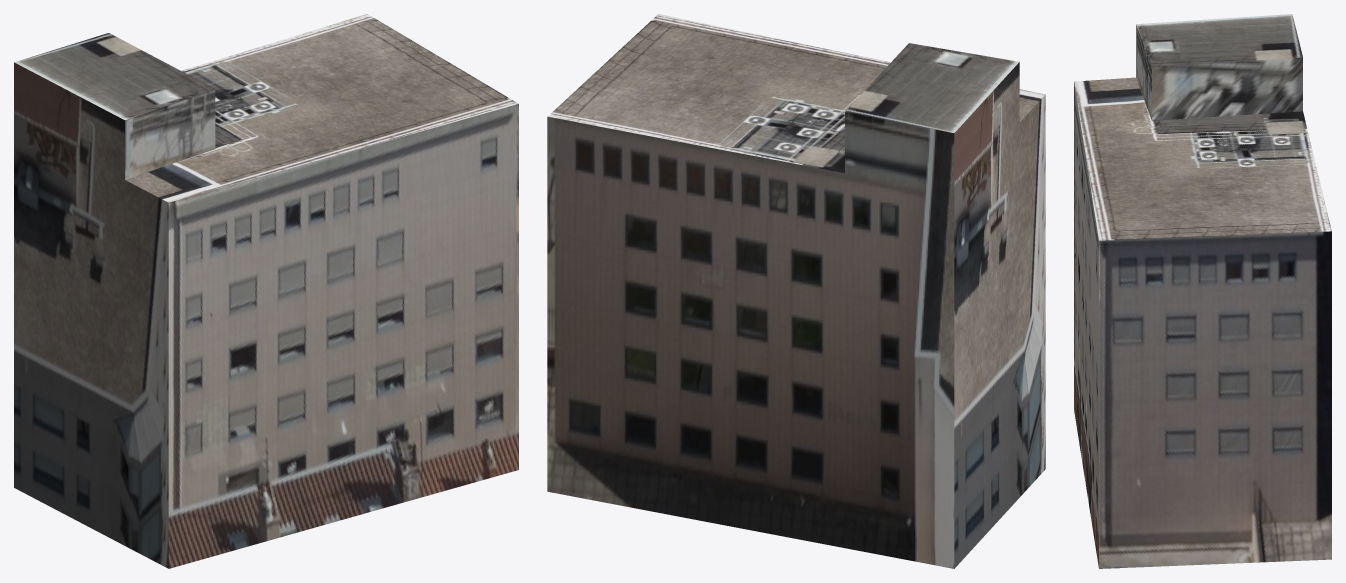
The picture shows the model from 3 angles, left to right: view 1: azimuth 30°, elevation 25°; view 2: azimuth 150°, elevation 25°; view 3: azimuth 270°, elevation 25°; orthographic projection. The views are drawn at different scales.
Visible parts, largest first — view 1: Z_UP; view 2: Z_UP; view 3: Z_UP.
Boxes of the visible parts, left/top/right/bottom form: Z_UP: left=14, top=14, right=518, bottom=568; Z_UP: left=547, top=14, right=1045, bottom=568; Z_UP: left=1074, top=14, right=1331, bottom=568.
Bounding box in the file's own units: 20.76 × 21.31 × 13.03.
2 materials, 1 textured.
